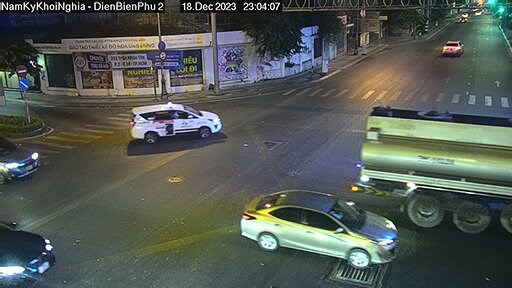car: (245, 193, 400, 271), (126, 102, 225, 140), (440, 37, 468, 60)
